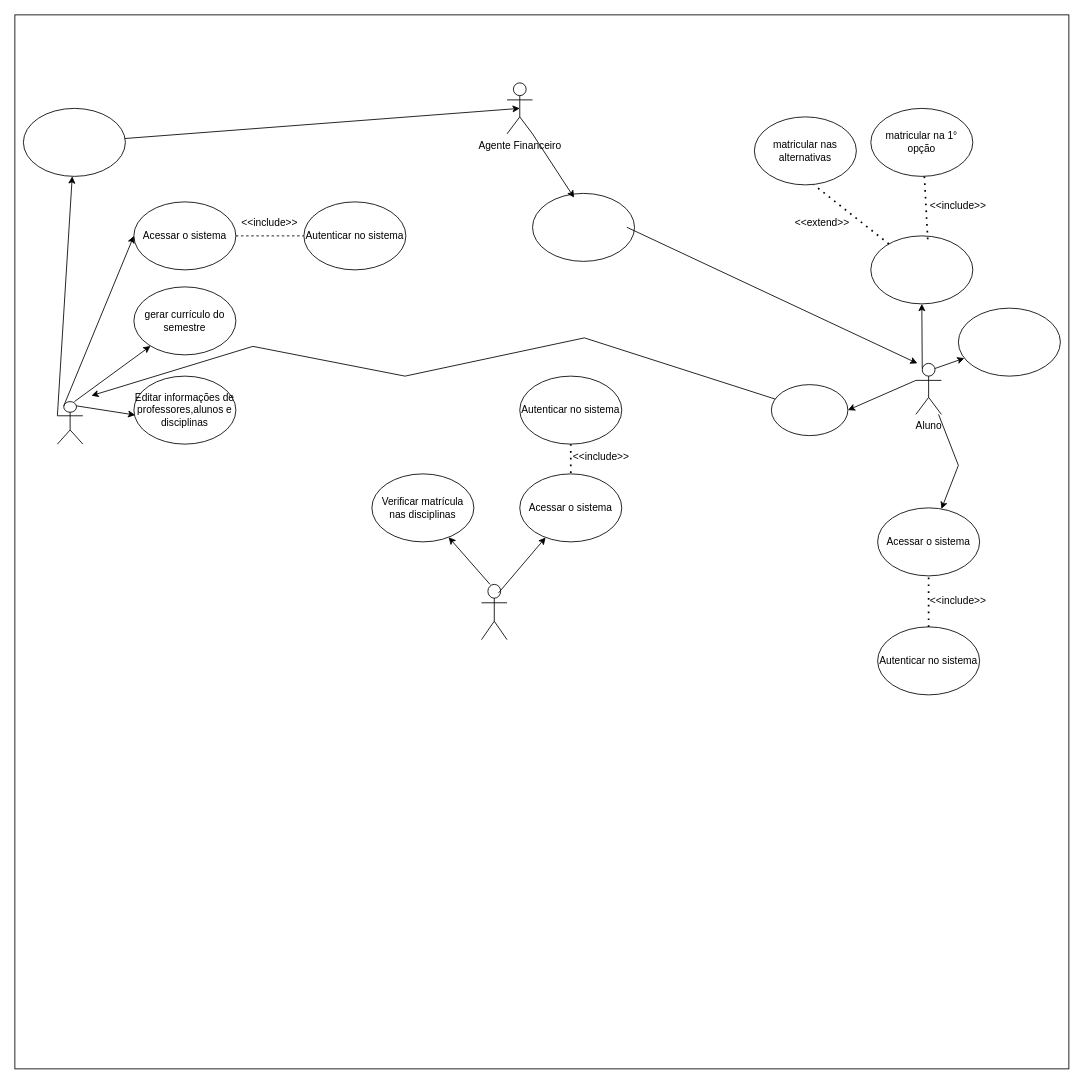
The diagram is 1084 pixels wide and 1084 high, and some of its shapes have lost their labels. Here are the shapes that lost their labels. From the top down, the centre of each, then its label:
the point at 74,142: Notificar inscrição no semestre
the point at 583,227: Gerar cobrança
the point at 921,269: Realizar matrícula
the point at 1009,341: Cancelar matrícula
the point at 70,422: Agente de matrícula
the point at 809,410: Inscrever no semestre
the point at 494,612: Professor
